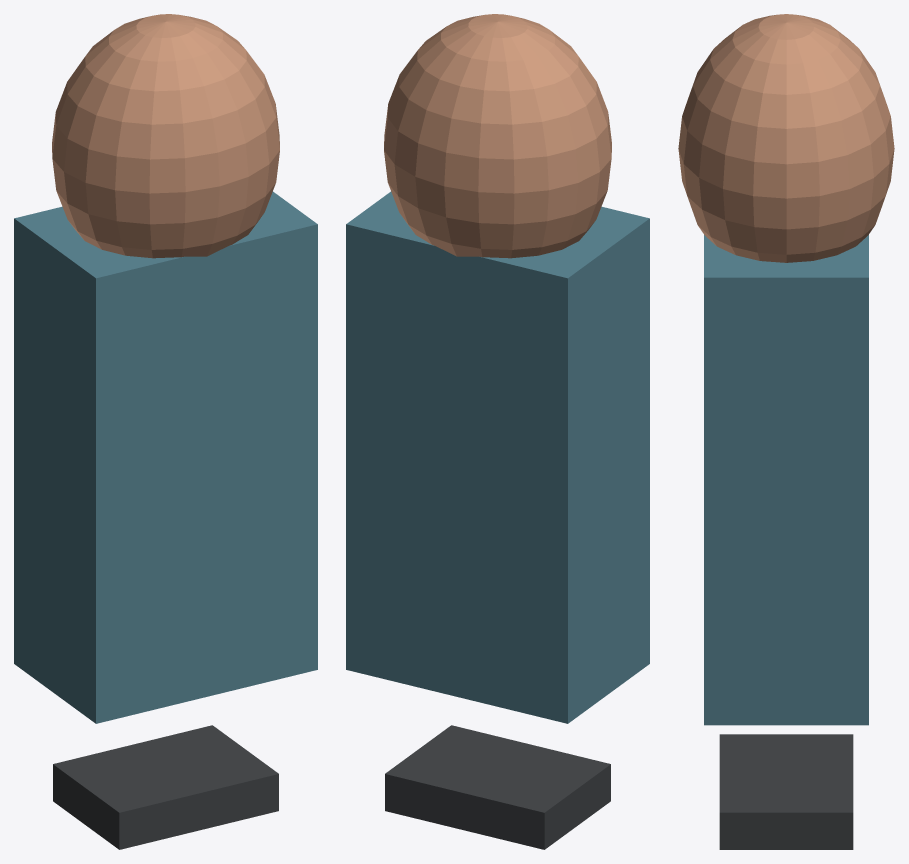
Rendered from CHAR_C02_A.glb.
The picture shows the model from 3 angles, left to right: view 1: azimuth 30°, elevation 25°; view 2: azimuth 150°, elevation 25°; view 3: azimuth 270°, elevation 25°; orthographic projection.
Visible parts, largest first — view 1: Character_Torso, Character_Head, Character_Feet; view 2: Character_Torso, Character_Head, Character_Feet; view 3: Character_Torso, Character_Head, Character_Feet.
Part boxes in pixels (bbox=[...]): Character_Torso: bbox=[14, 191, 317, 723]; Character_Head: bbox=[52, 14, 279, 258]; Character_Feet: bbox=[53, 725, 278, 849]; Character_Torso: bbox=[346, 191, 649, 723]; Character_Head: bbox=[384, 14, 611, 258]; Character_Feet: bbox=[385, 725, 610, 849]; Character_Torso: bbox=[704, 235, 868, 725]; Character_Head: bbox=[678, 14, 894, 262]; Character_Feet: bbox=[719, 734, 853, 849].
Bounding box in the file's own units: 0.5 × 1.69 × 0.42.
